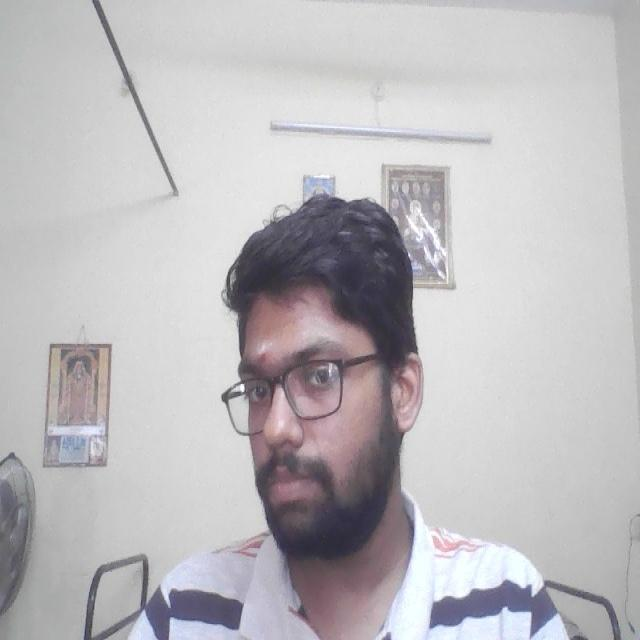Focused: (224, 286, 410, 538)
